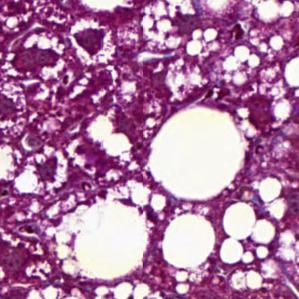steatosis: (144, 106, 250, 201), (162, 213, 215, 266), (221, 198, 256, 239)
